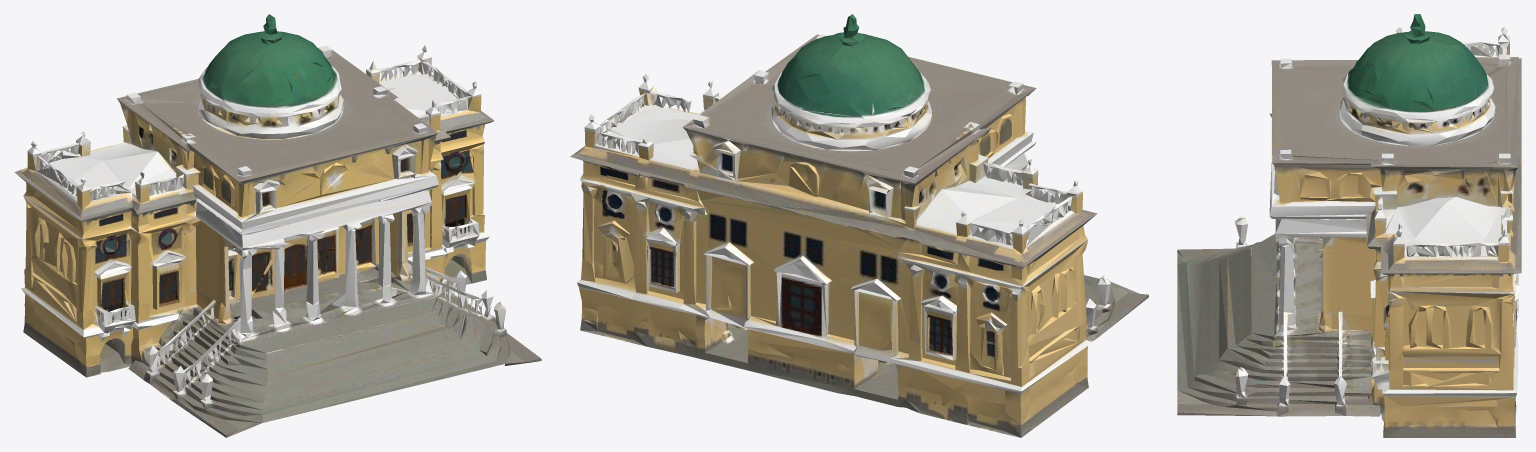
Rendered from lm_theater.glb.
3 renders of one model, left to right at view 1: azimuth 30°, elevation 25°; view 2: azimuth 150°, elevation 25°; view 3: azimuth 270°, elevation 25°, orthographic. The views are drawn at different scales.
Parts seen in each view (by area): view 1: output_unwrapped; view 2: output_unwrapped; view 3: output_unwrapped.
Boxes of the visible parts, box(x1,y1,x2,y2) form: output_unwrapped: box(14, 14, 541, 437); output_unwrapped: box(570, 14, 1148, 437); output_unwrapped: box(1177, 14, 1521, 437).
Bounding box in the file's own units: 1.9 × 1.33 × 1.29.
1 material, 1 textured.
